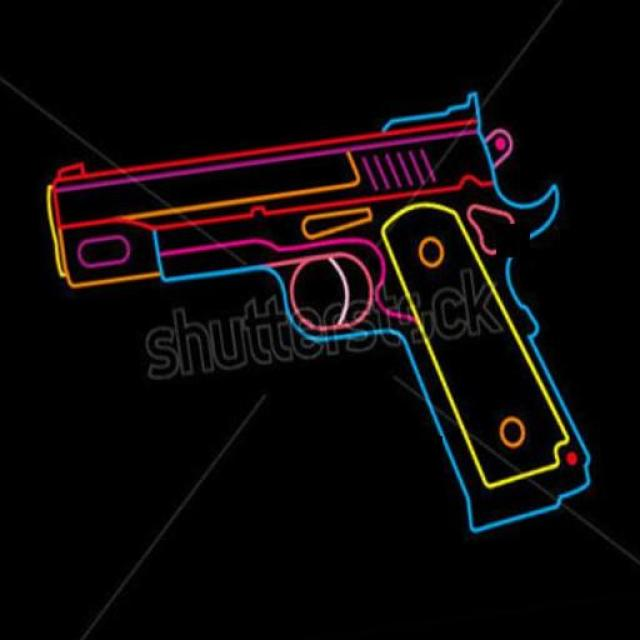gun: (38, 80, 608, 589)
